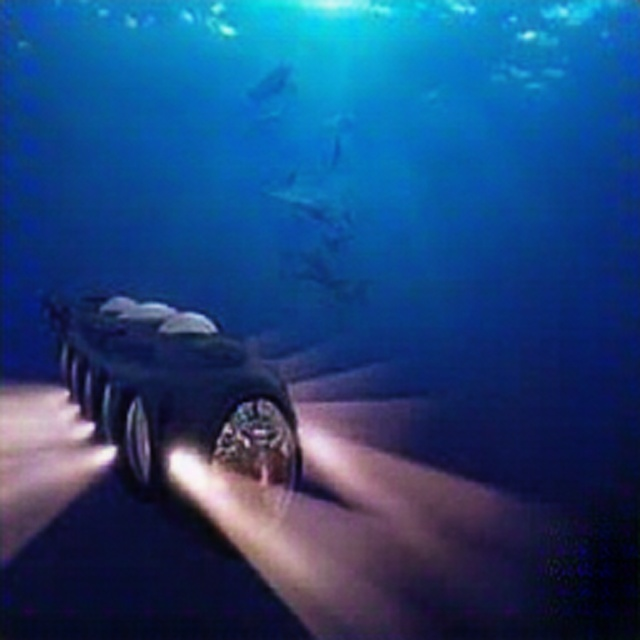submarine: (37, 259, 316, 538)
